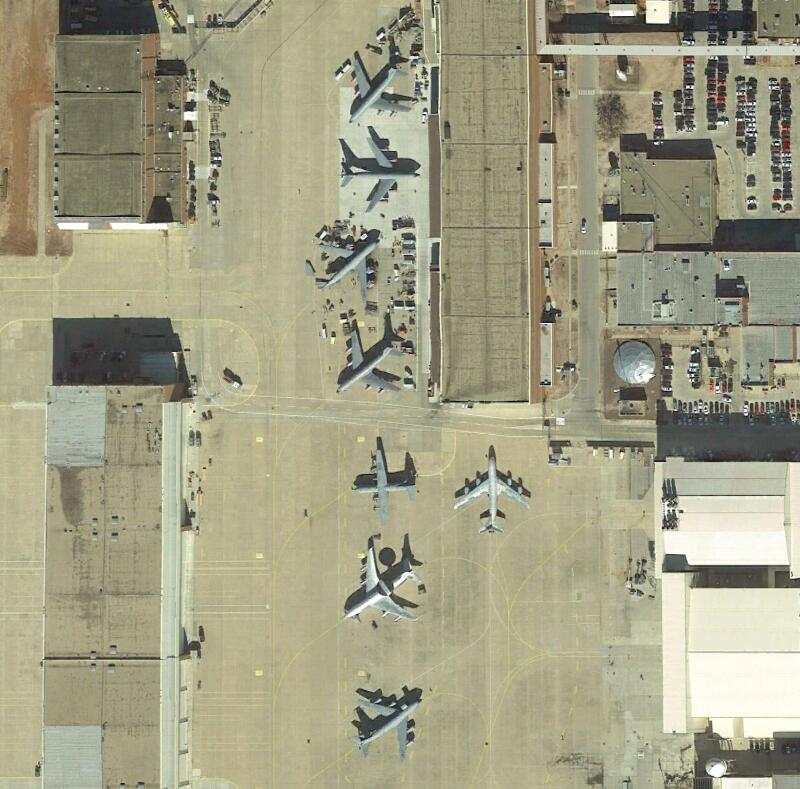A11: (454, 453, 532, 540)
A14: (339, 134, 420, 213), (353, 688, 430, 764), (346, 56, 417, 127), (334, 329, 404, 397), (316, 237, 382, 301)
A2: (350, 448, 418, 530)
A7: (342, 545, 428, 626)
